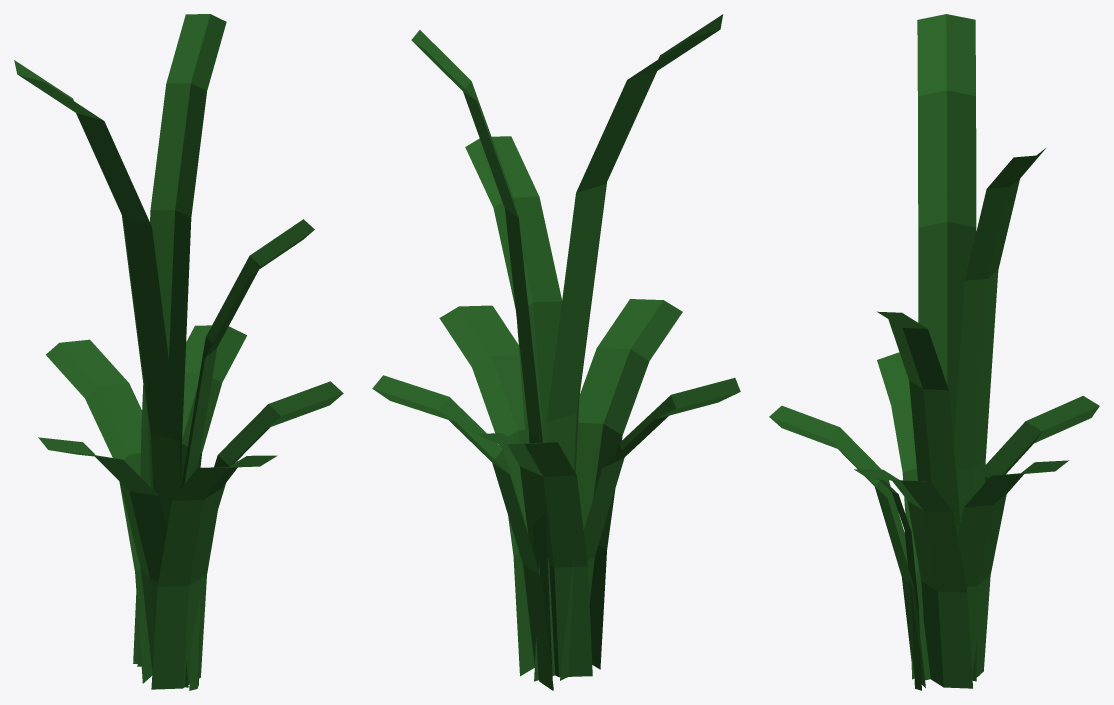
File: Desert_Plant_Bush_Thin.fbx
The picture shows the model from 3 angles, left to right: view 1: azimuth 30°, elevation 25°; view 2: azimuth 150°, elevation 25°; view 3: azimuth 270°, elevation 25°; orthographic projection. The views are drawn at different scales.
Parts seen in each view (by area): view 1: Desert_Plant_Small_Busch_02; view 2: Desert_Plant_Small_Busch_02; view 3: Desert_Plant_Small_Busch_02.
Part boxes in pixels (x1=…): Desert_Plant_Small_Busch_02: x1=14, y1=14, x2=343, y2=690; Desert_Plant_Small_Busch_02: x1=372, y1=14, x2=740, y2=690; Desert_Plant_Small_Busch_02: x1=769, y1=14, x2=1099, y2=690.
Size of the model in its own units: 83.65 by 178 by 88.97.
